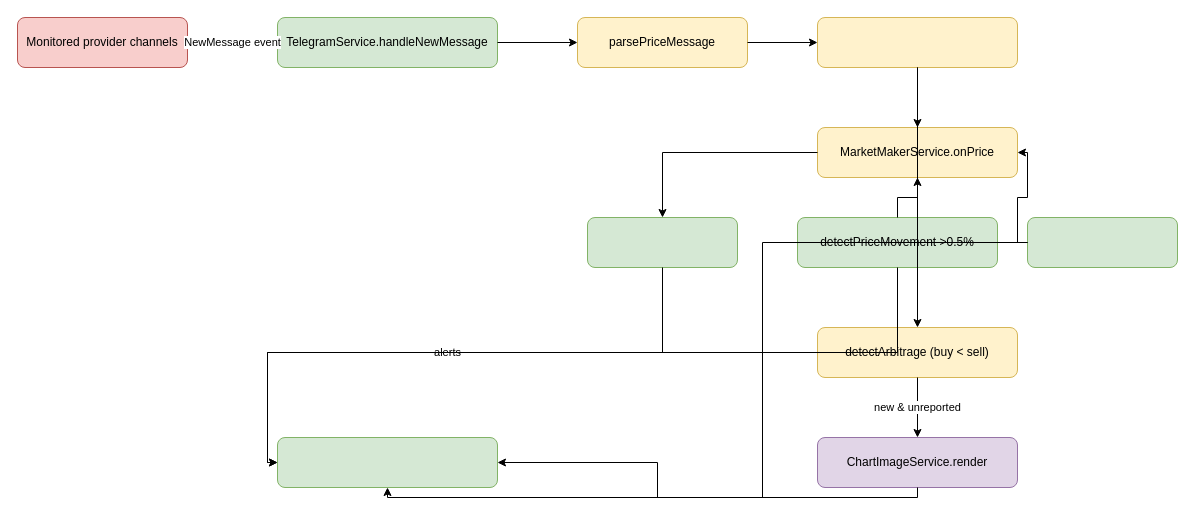
The diagram is 1195 pixels wide and 523 high, and some of its shapes have lost their labels. Each missing label, with the centre of its shape:
detectBestPrice: (x=1102, y=242)
PriceHistoryService.record: (x=917, y=42)
shareToTarget / sendPhotoToTarget: (x=387, y=462)
updateMarketState: (x=662, y=242)
